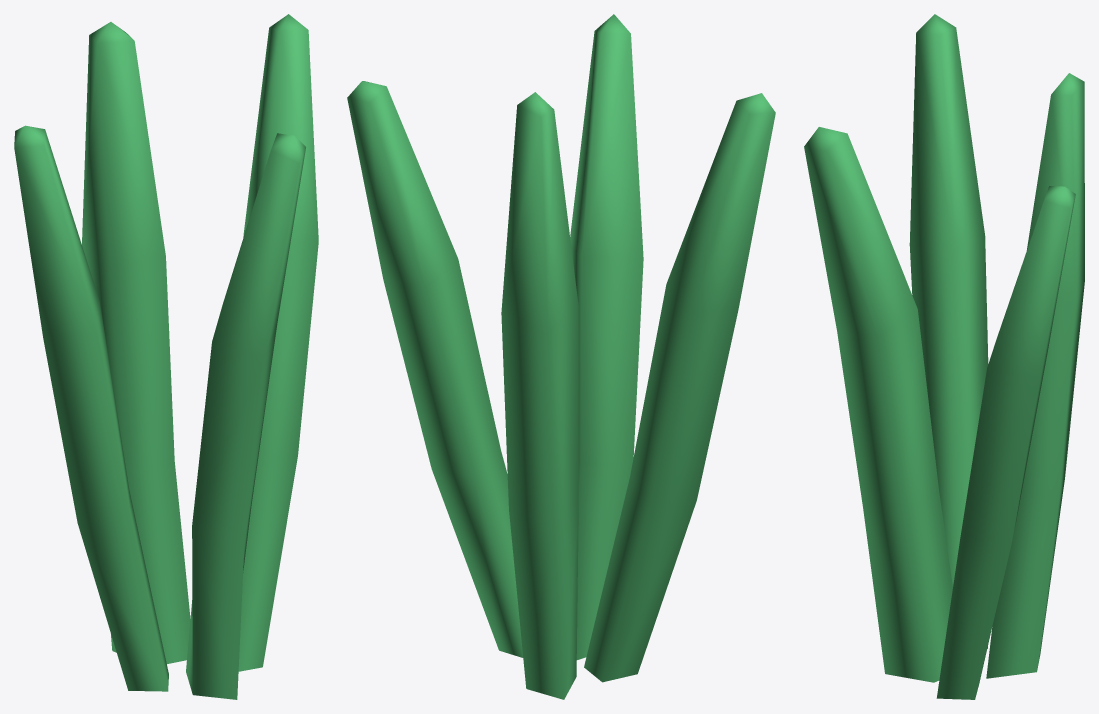
The model's file is Grass_B_02_LOD2.gltf.
3 renders of one model, left to right at view 1: azimuth 30°, elevation 25°; view 2: azimuth 150°, elevation 25°; view 3: azimuth 270°, elevation 25°, orthographic. The views are drawn at different scales.
Visible parts, largest first — view 1: Grass_B_02_LOD2_Cube.716; view 2: Grass_B_02_LOD2_Cube.716; view 3: Grass_B_02_LOD2_Cube.716.
Part boxes in pixels (box(x1,y1,x2,y2)): Grass_B_02_LOD2_Cube.716: box(14, 14, 318, 699); Grass_B_02_LOD2_Cube.716: box(347, 14, 775, 699); Grass_B_02_LOD2_Cube.716: box(804, 14, 1084, 699).
Size of the model in its own units: 3.31 by 5.46 by 2.37.
1 material, 1 textured.
